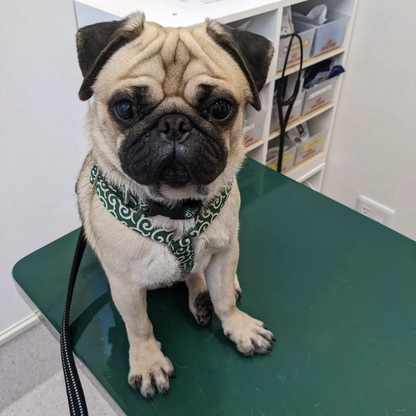Pug: (70, 6, 281, 403)
